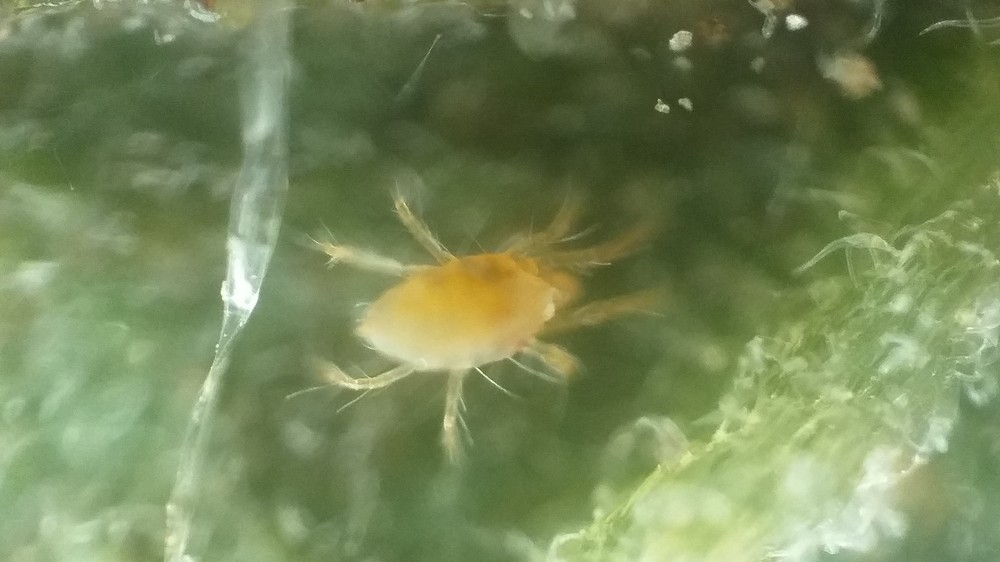Aracnido Rojo: (290, 184, 703, 464)
